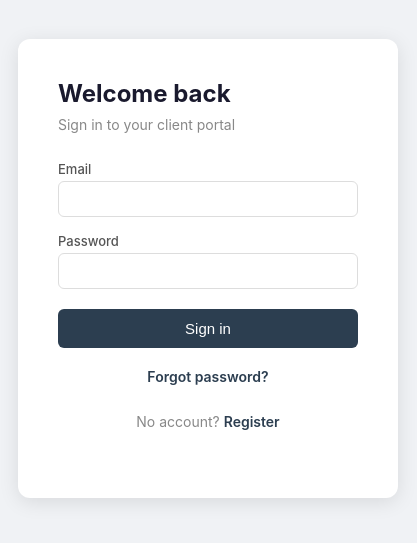
Test: Login › shows inline error message on 401
The width and height of the screenshot is (417, 543).
Type "test@example.com" into the field labelled "Email" at (208, 198), box [58, 180, 358, 216]
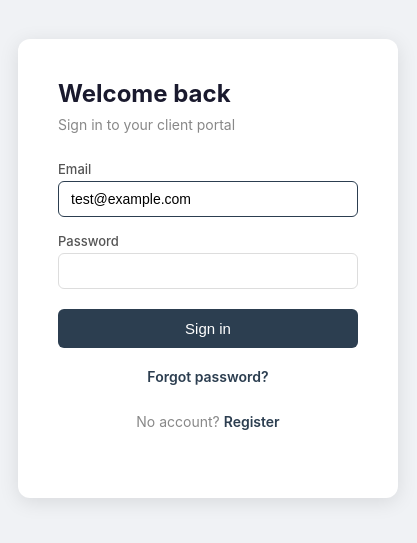
Type "password123" into the password field labelled "Password" at (208, 270), box [58, 252, 358, 288]
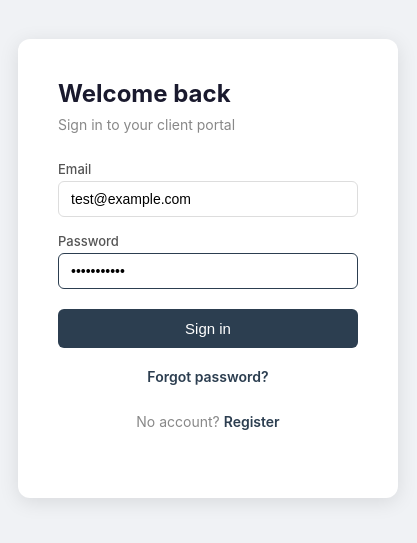
Click the button "Sign in" at (208, 328), box [58, 308, 358, 348]
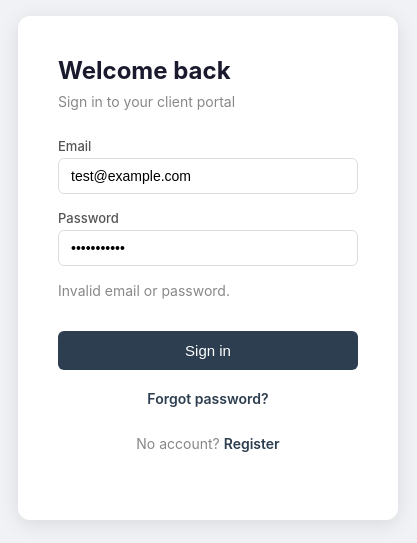
Check: the text "Invalid email or password." is shown, box [58, 282, 230, 299]
